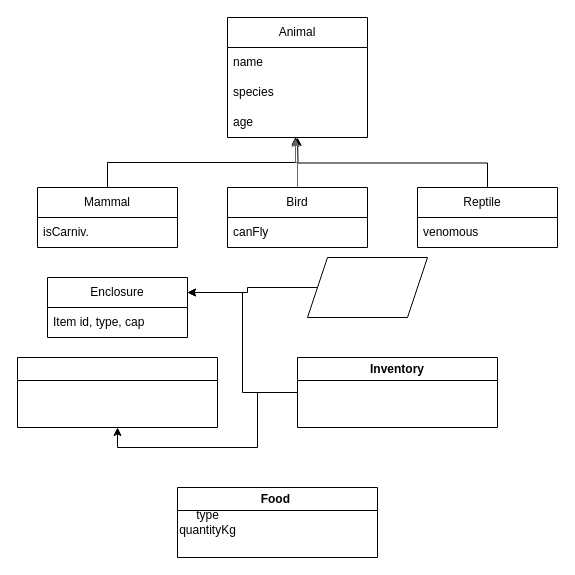
Image size: 575x575. Some labels were removed from this diagram. Here are the shapes that lost their labels. From the top down, the centre of each, then its label:
point (367, 287): Animal[]
point (117, 392): Employee
